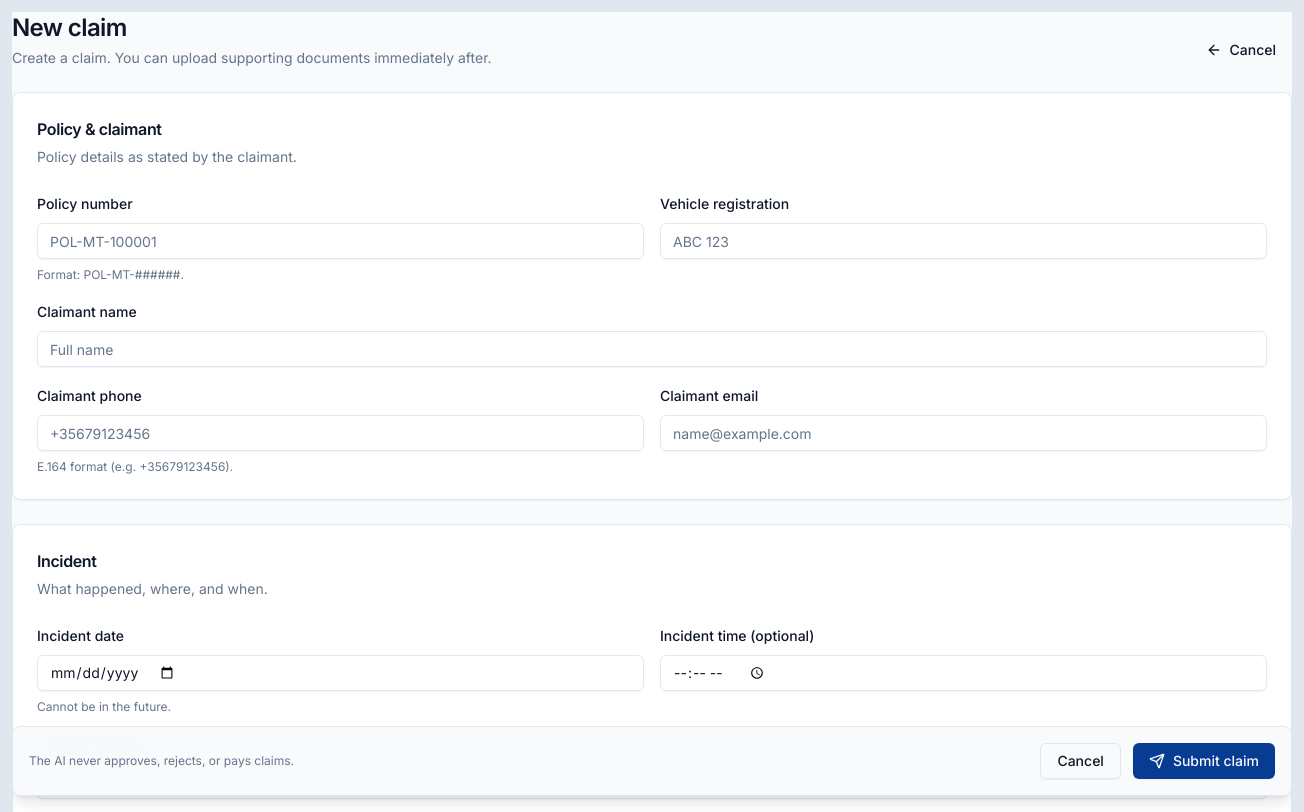
NewClaimPage › rejects a malformed policy number
Type "BAD-123" into the field labelled "Policy number".
click(340, 241); type("BAD-123")  # box [37,223,644,259]
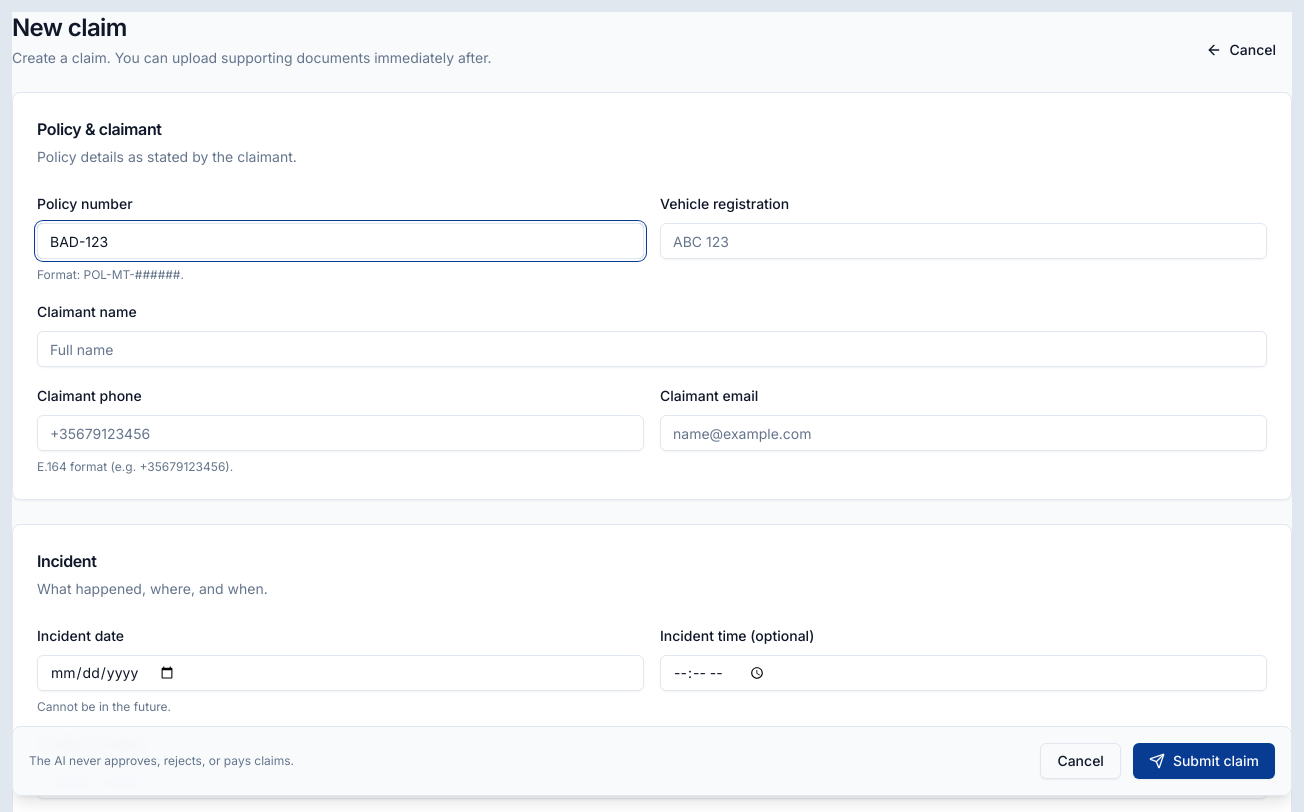
Click the button "Submit claim".
click(1204, 761)  # box [1133,743,1275,779]
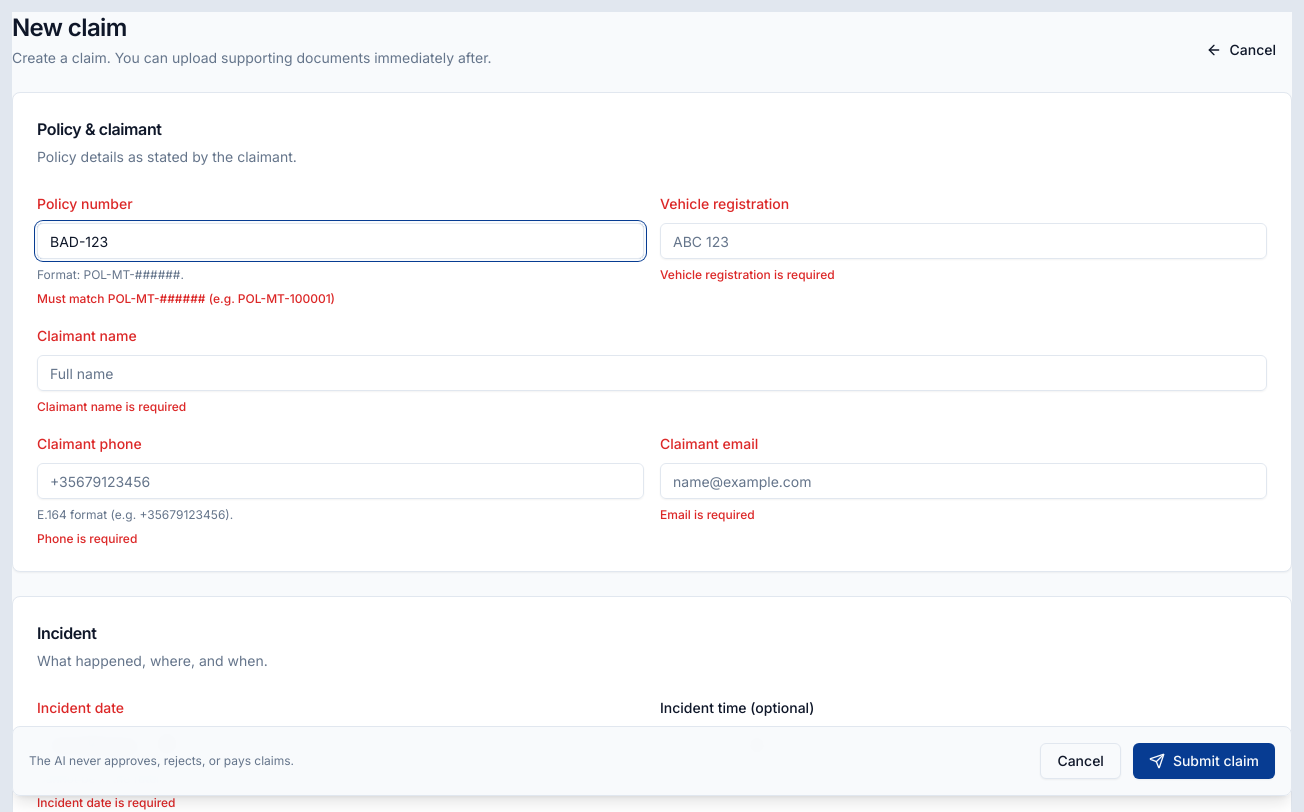
Expected: the text "Must match POL-MT-###### (e.g. POL-MT-100001)" is shown, [37,291,335,306]
